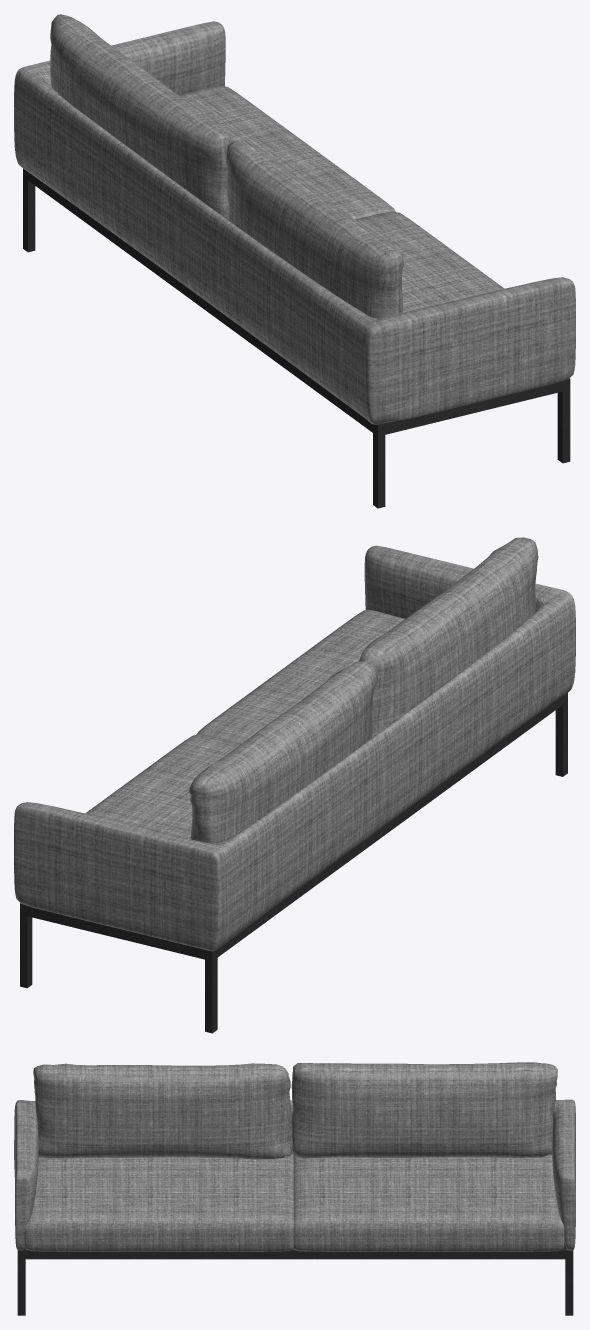
Rendered from sofa.glb.
3 renders of one model, top to bottom at view 1: azimuth 30°, elevation 25°; view 2: azimuth 150°, elevation 25°; view 3: azimuth 270°, elevation 25°, orthographic. The views are drawn at different scales.
Parts seen in each view (by area): view 1: Cube.003, Cube; view 2: Cube.003, Cube; view 3: Cube.003, Cube.
Part boxes in pixels (box(x1,y1,x2,y2)): Cube.003: box(14, 14, 575, 424); Cube: box(23, 168, 570, 508); Cube.003: box(14, 537, 575, 951); Cube: box(20, 693, 567, 1033); Cube.003: box(14, 1062, 575, 1251); Cube: box(17, 1241, 573, 1315).
Bounding box in the file's own units: 1.09 × 1.2 × 3.25.
Materials: 2 (2 with a texture image).
